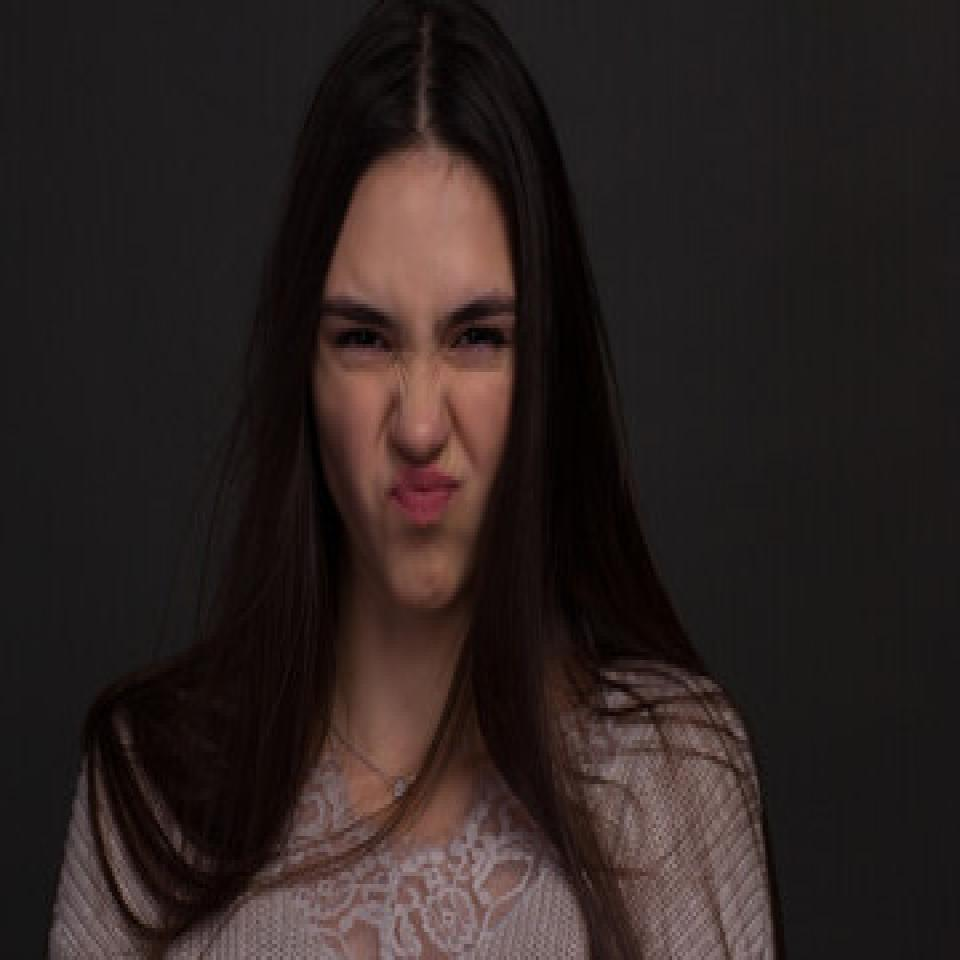Disgust: (299, 141, 546, 621)
